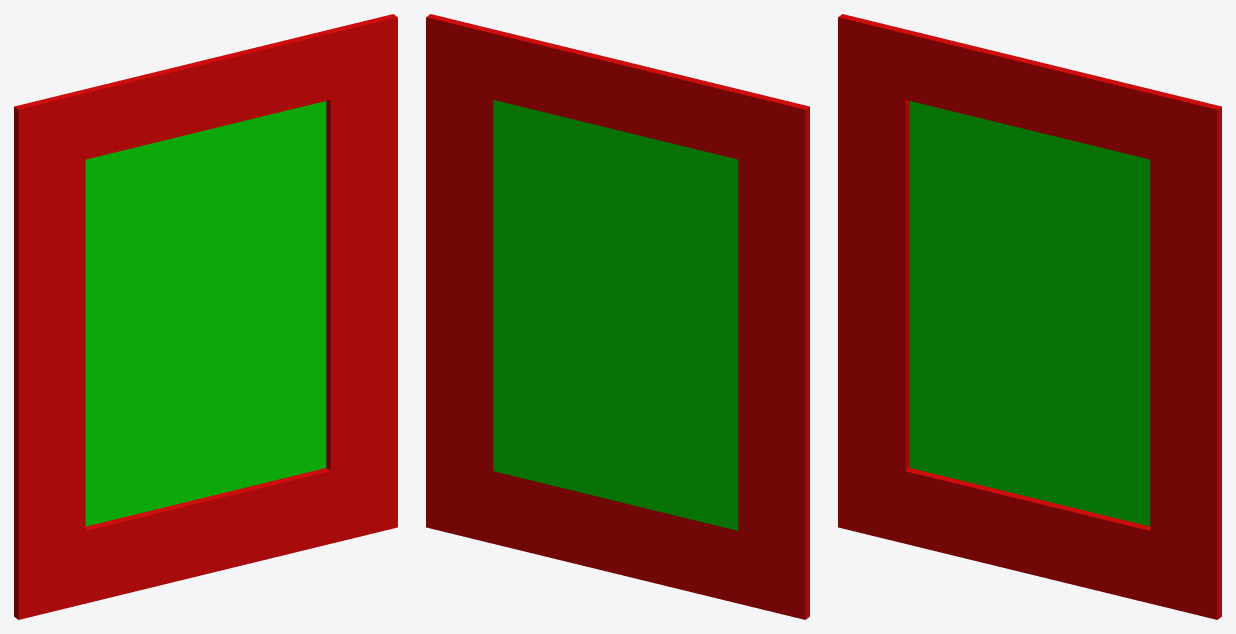
File: FO_Paint.fbx
3 renders of one model, left to right at view 1: azimuth 30°, elevation 25°; view 2: azimuth 150°, elevation 25°; view 3: azimuth 330°, elevation 25°, orthographic.
Visible parts, largest first — view 1: Paint; view 2: Paint; view 3: Paint.
Part boxes in pixels (bbox=[...]): Paint: bbox=[14, 14, 397, 619]; Paint: bbox=[426, 14, 809, 619]; Paint: bbox=[838, 14, 1221, 619].
Bounding box in the file's own units: 0.3105 × 0.3992 × 0.00633.
